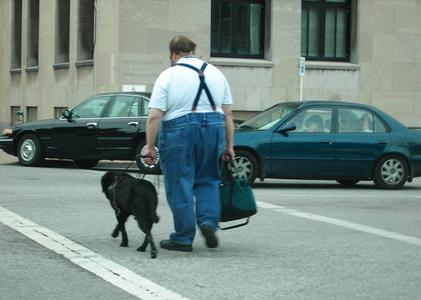person: (148, 34, 237, 253)
